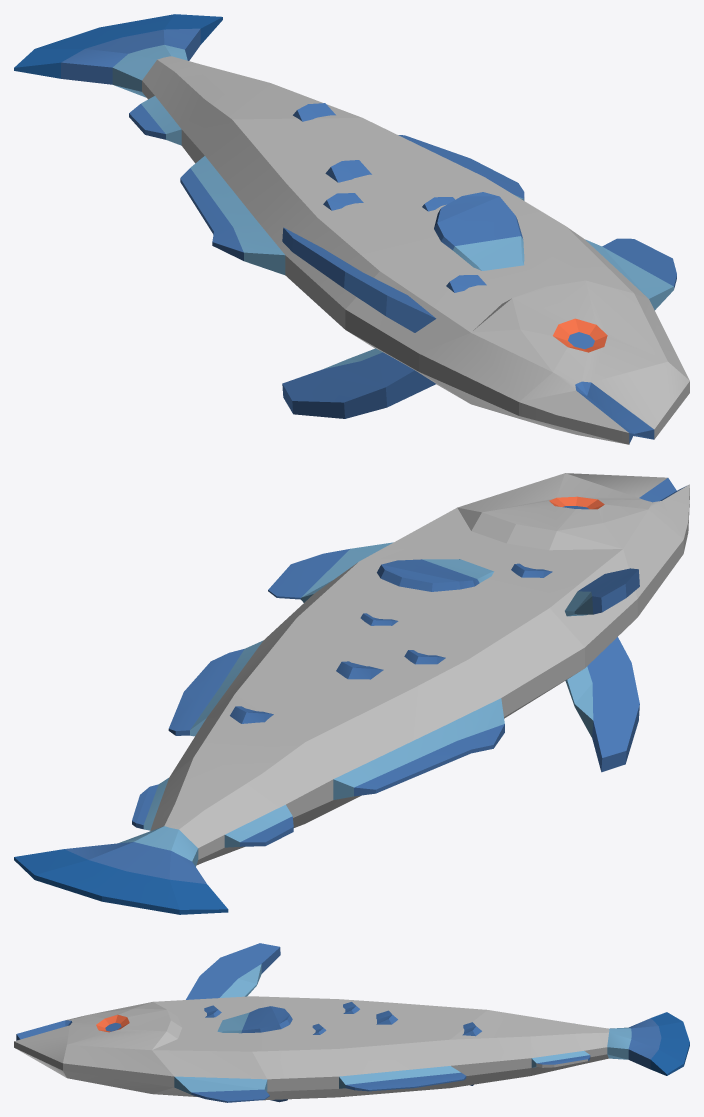
Rendered from fish_7.FBX.
3 views of the same model, one above another, from view 1: azimuth 30°, elevation 25°; view 2: azimuth 150°, elevation 25°; view 3: azimuth 270°, elevation 25° (orthographic). The views are drawn at different scales.
Visible parts, largest first — view 1: fish_7; view 2: fish_7; view 3: fish_7.
Part boxes in pixels (box(x1,y1,x2,y2)): fish_7: box(14, 14, 689, 444); fish_7: box(14, 473, 689, 914); fish_7: box(14, 943, 689, 1102).
Size of the model in its own units: 17.72 by 8.42 by 47.99.
